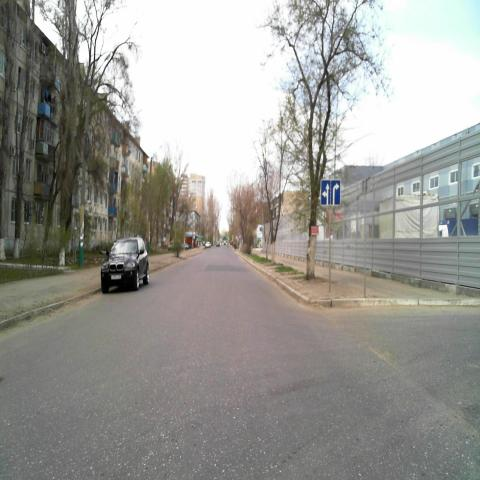5_15_2_2: (320, 179, 341, 205)
